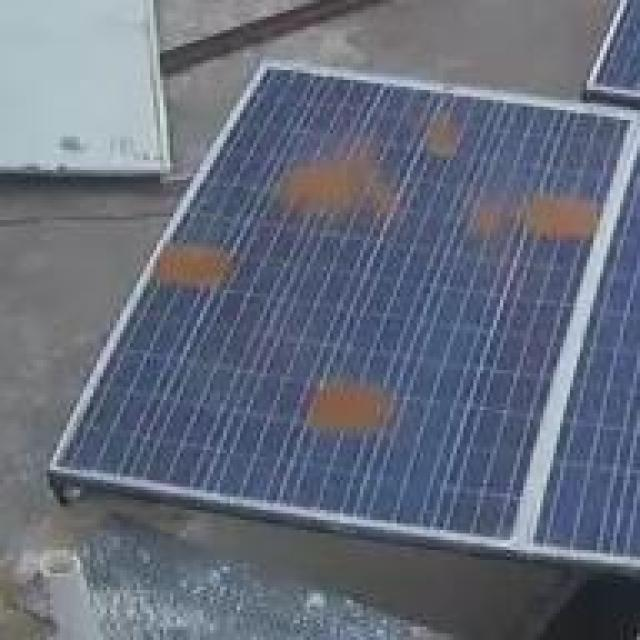Anomaly Solar Panel: (56, 0, 628, 586)
Surface Contaminant: (264, 123, 409, 261), (460, 176, 604, 246), (298, 369, 397, 438), (148, 233, 233, 290), (408, 97, 469, 167)
